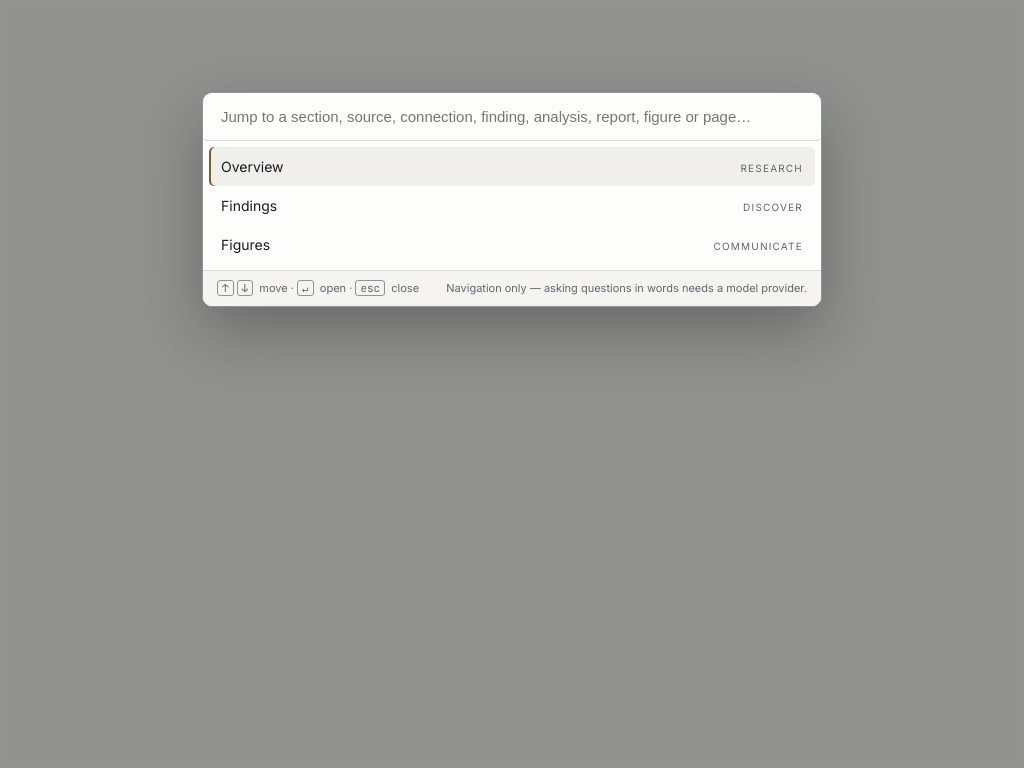
Test: it says when it has nothing › names the query it could not match
Type "zzzzz" into the field named "Search the project" at (512, 117), box [203,93,821,141]
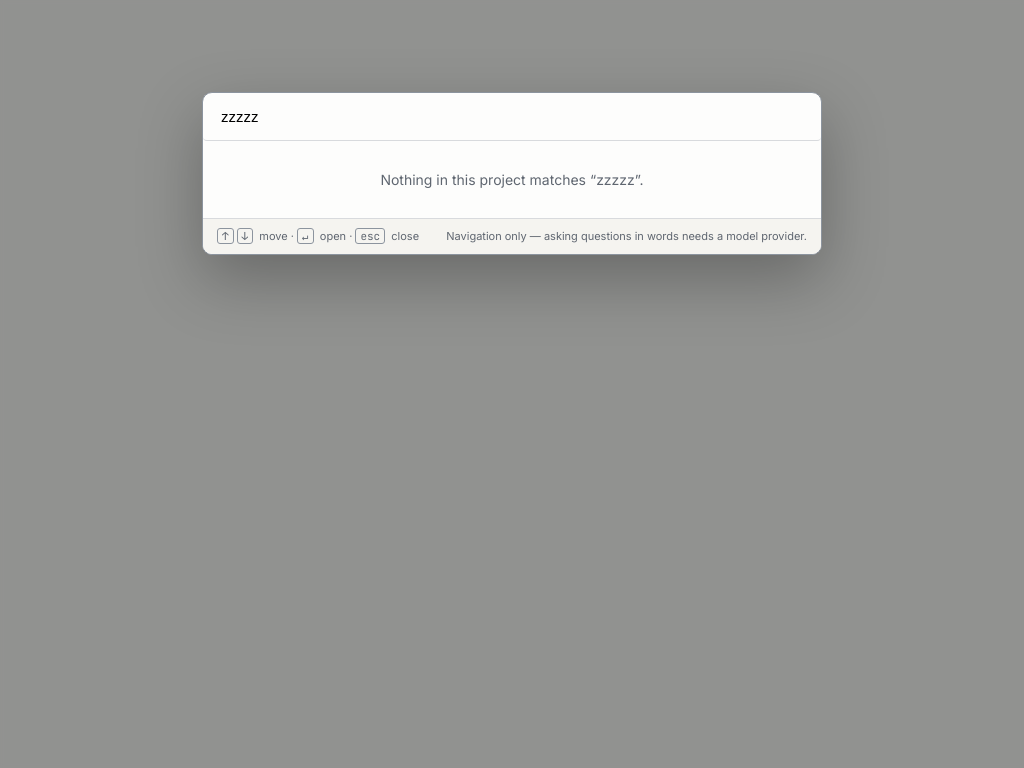
Expected: the text "Nothing in this project matches “zzzzz”." is shown, [380,171,644,188]
